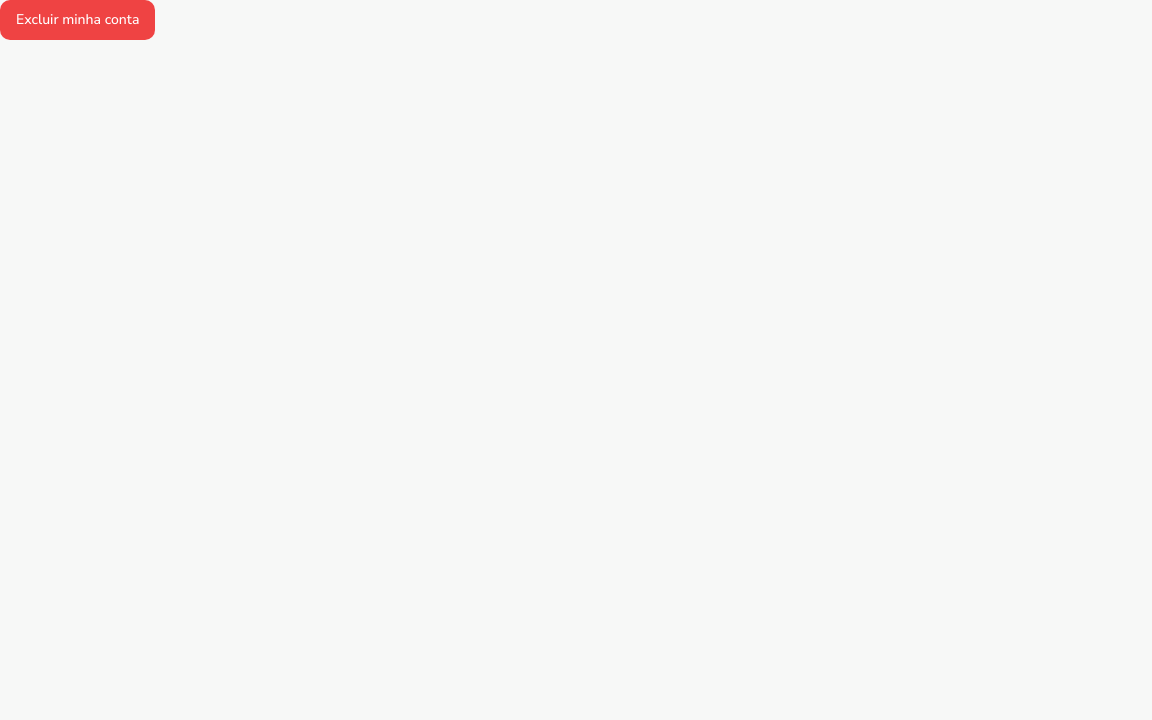
Test: DeleteAccountDialog › REAUTH_FAILED exibe erro inline e mantém dialog aberto
Click the button "Excluir minha conta".
click(78, 20)  # box [0,0,155,40]
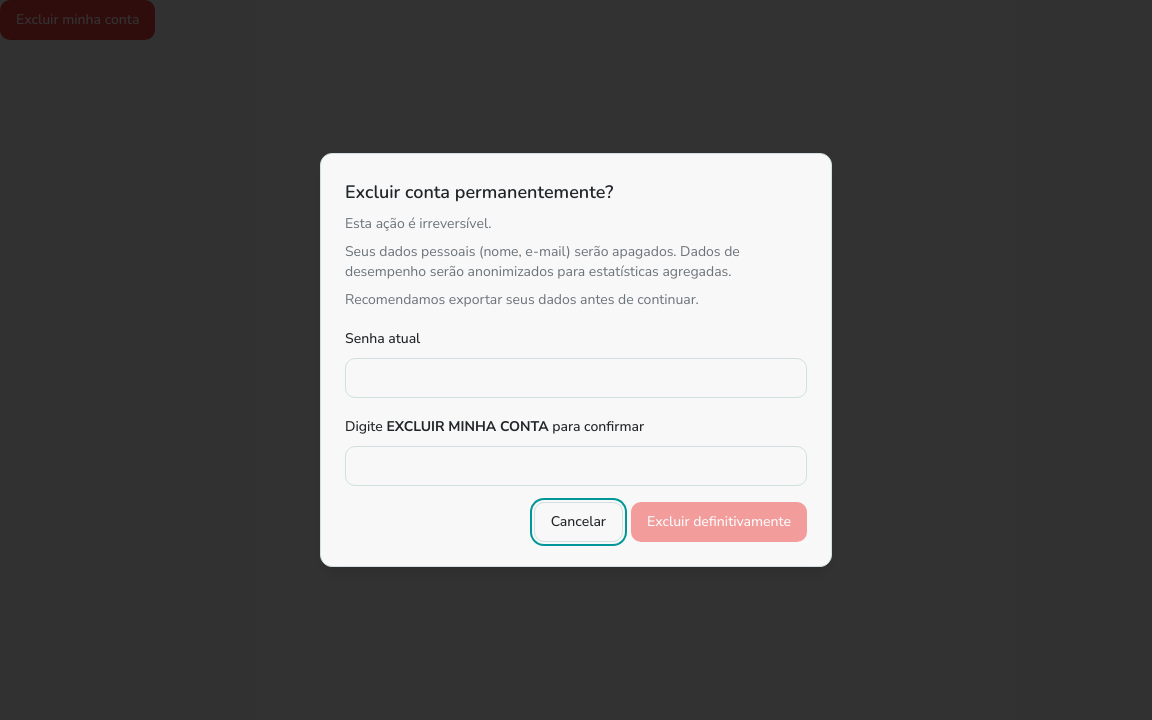
Now the password field labelled "Senha atual" is shown
Type "errada" into the password field labelled "Senha atual".
click(576, 378); type("errada")  # box [345,358,807,398]
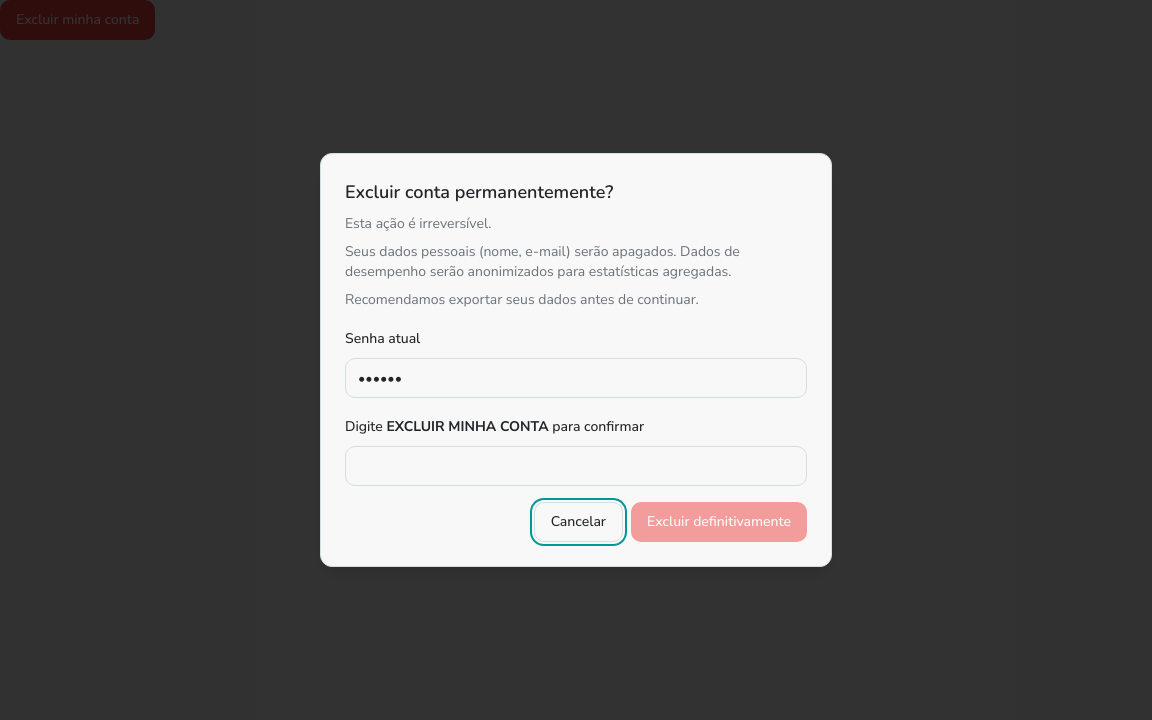
Type "EXCLUIR MINHA CONTA" into the field labelled "Digite EXCLUIR MINHA CONTA para confirmar".
click(576, 466); type("EXCLUIR MINHA CONTA")  # box [345,446,807,486]
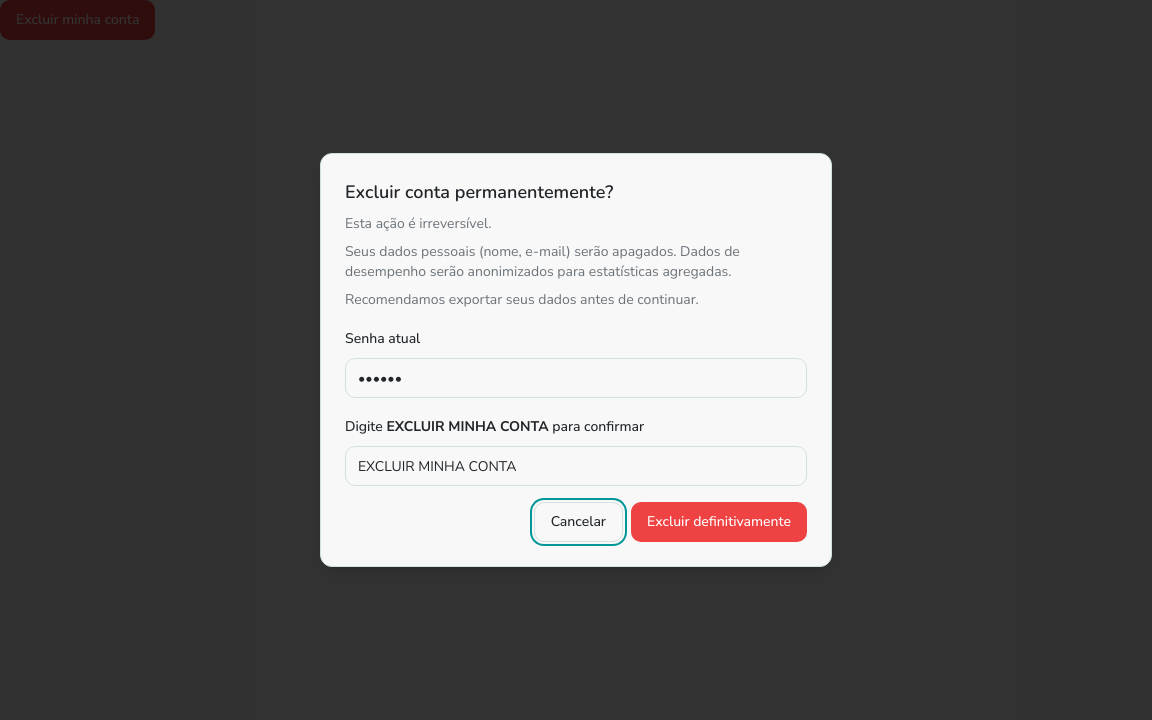
Click the button "Excluir definitivamente".
click(719, 522)  # box [631,502,807,542]
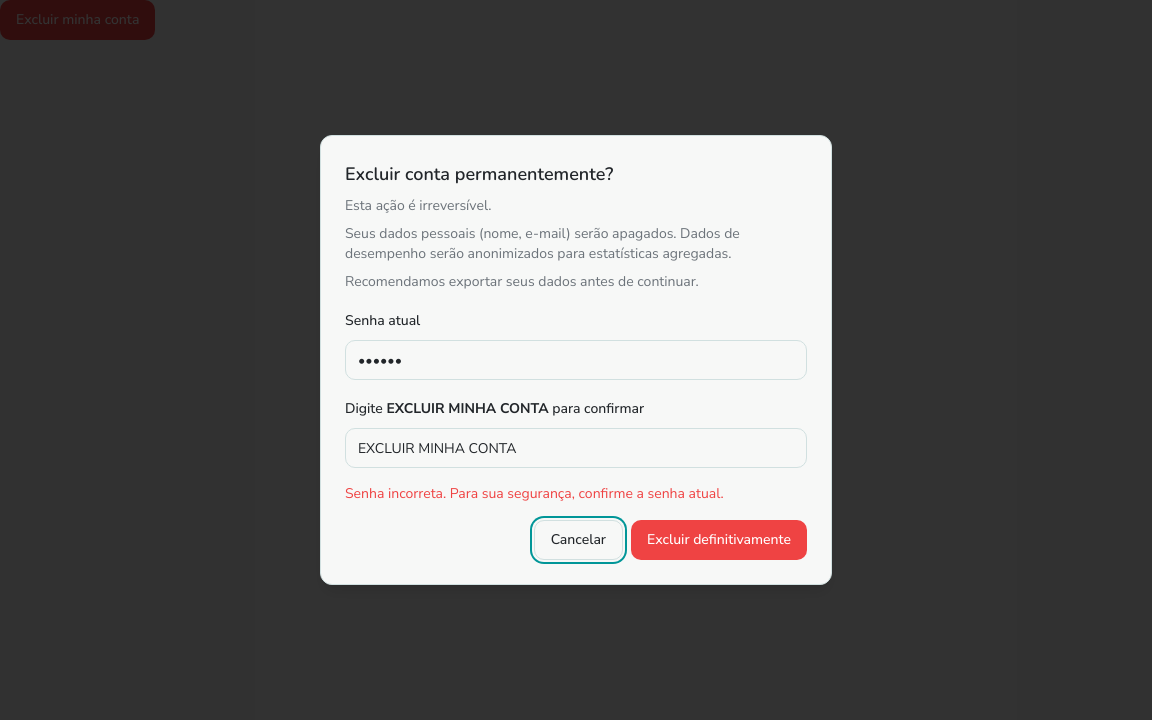
Now the message shows "Senha incorreta", box [345,484,724,503]
